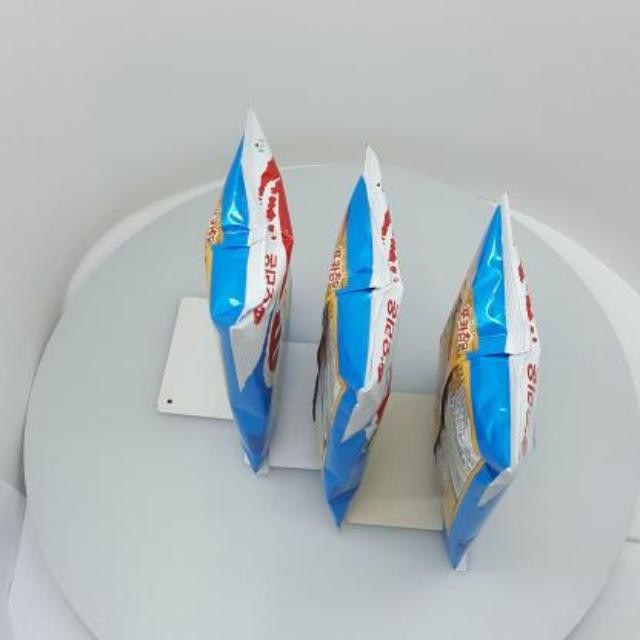snack_bag: (168, 93, 560, 582)
